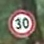limite 30: (6, 8, 36, 37)
